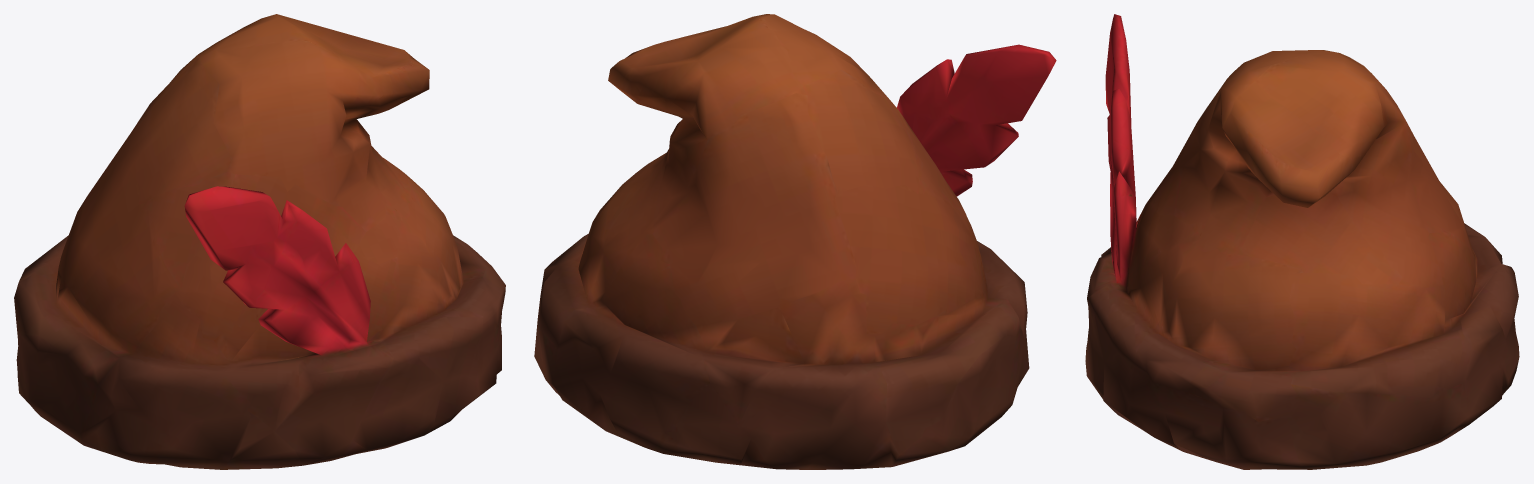
Rendered from hat_hunterCap-CPumSh3j.glb.
3 renders of one model, left to right at view 1: azimuth 30°, elevation 25°; view 2: azimuth 150°, elevation 25°; view 3: azimuth 270°, elevation 25°, orthographic. The views are drawn at different scales.
Visible parts, largest first — view 1: tripo_node_81ffe7ad-76de-4f9a-af08-81d3206ead3d; view 2: tripo_node_81ffe7ad-76de-4f9a-af08-81d3206ead3d; view 3: tripo_node_81ffe7ad-76de-4f9a-af08-81d3206ead3d.
Part boxes in pixels (x1,y1,x2,y2): tripo_node_81ffe7ad-76de-4f9a-af08-81d3206ead3d: [14, 14, 505, 469]; tripo_node_81ffe7ad-76de-4f9a-af08-81d3206ead3d: [534, 14, 1056, 469]; tripo_node_81ffe7ad-76de-4f9a-af08-81d3206ead3d: [1085, 14, 1519, 469].
Bounding box in the file's own units: 1 × 0.7836 × 0.9319.
Materials: 1 (1 with a texture image).
